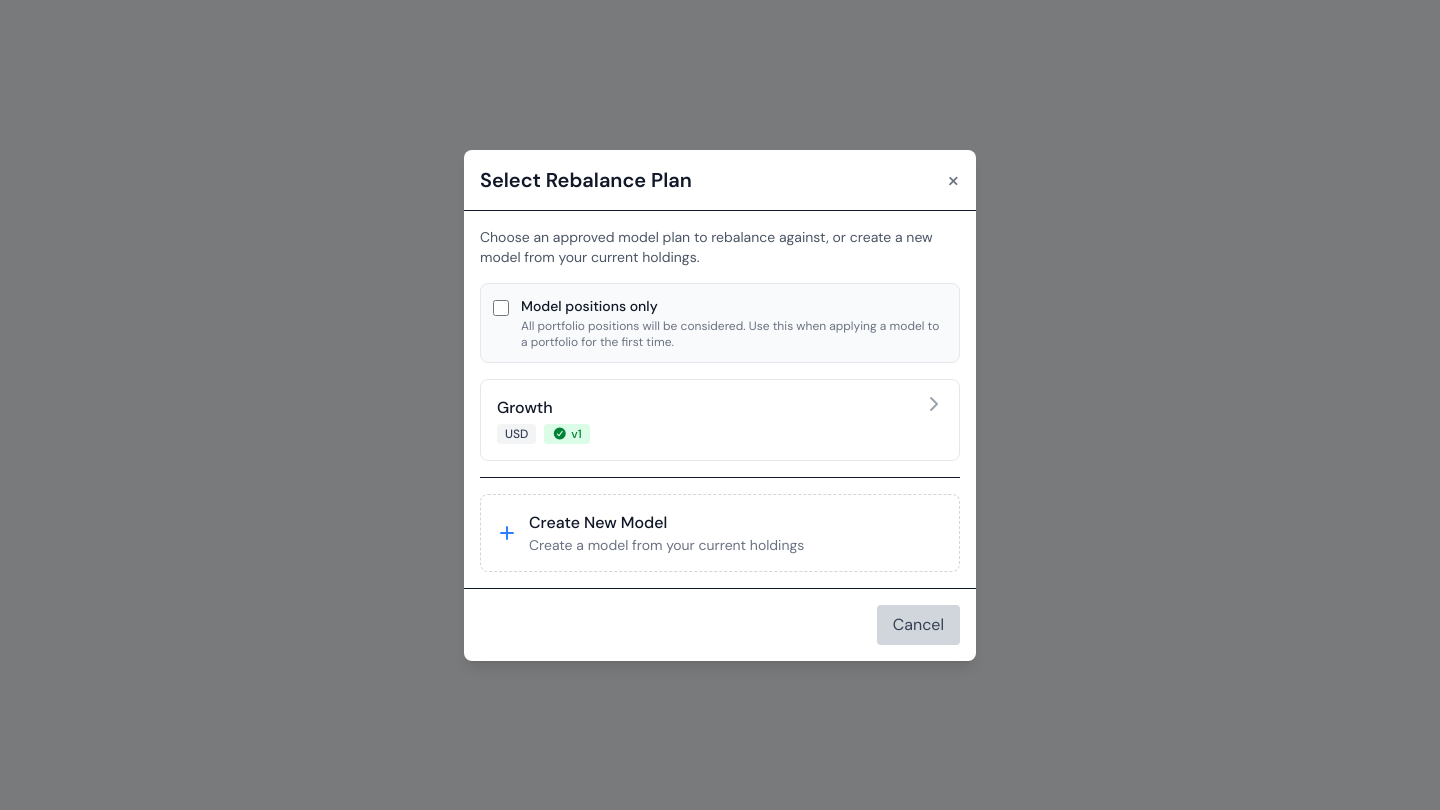
Scenario: SelectPlanDialog — fetch failure surfacing (#1157) › clears a previous error and proceeds normally when the retry succeeds
Click the text "Growth" at (525, 407), box [497,396,553,418]
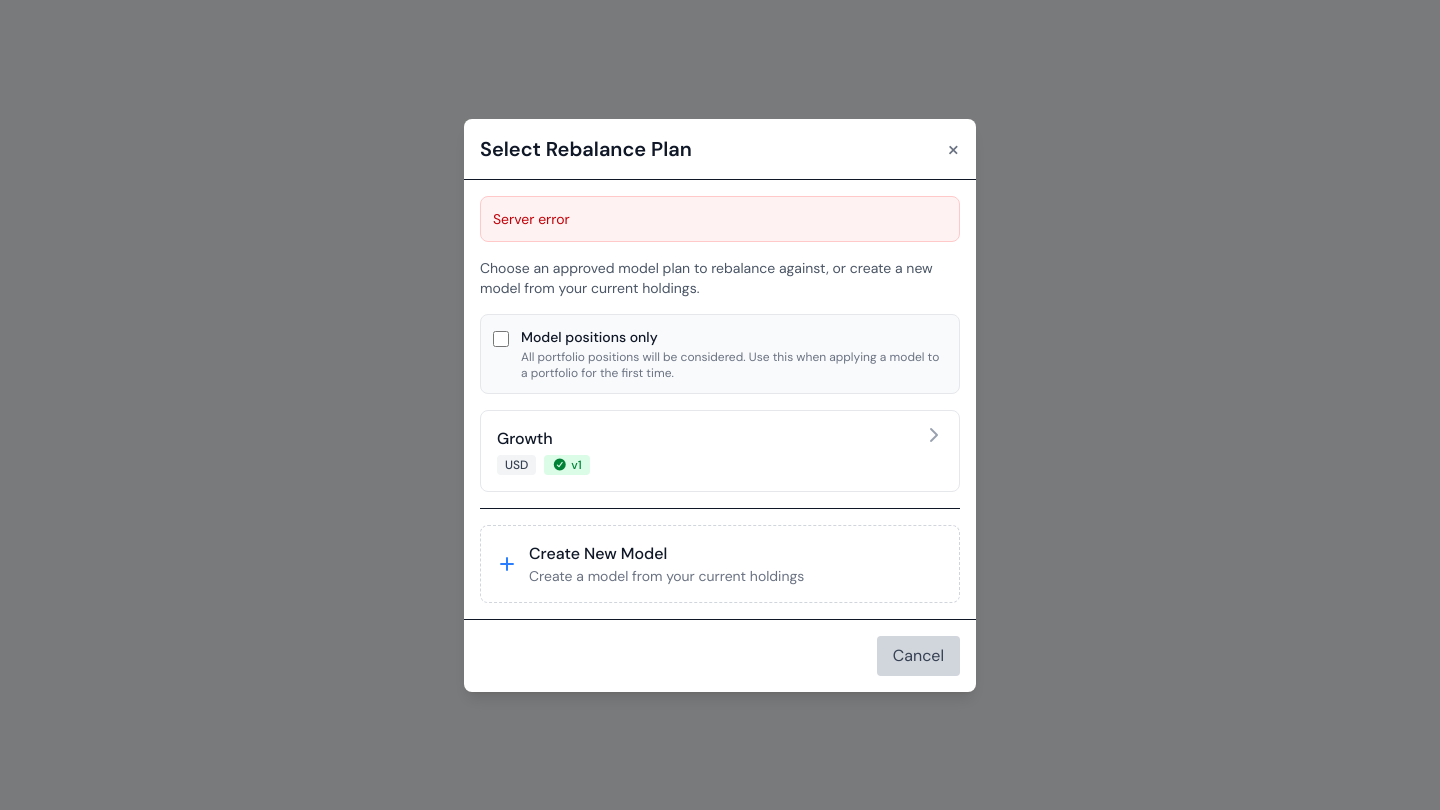
Now the text "Server error" is shown, box [480,196,960,242]
Click the text "Growth" at (525, 438), box [497,428,553,448]
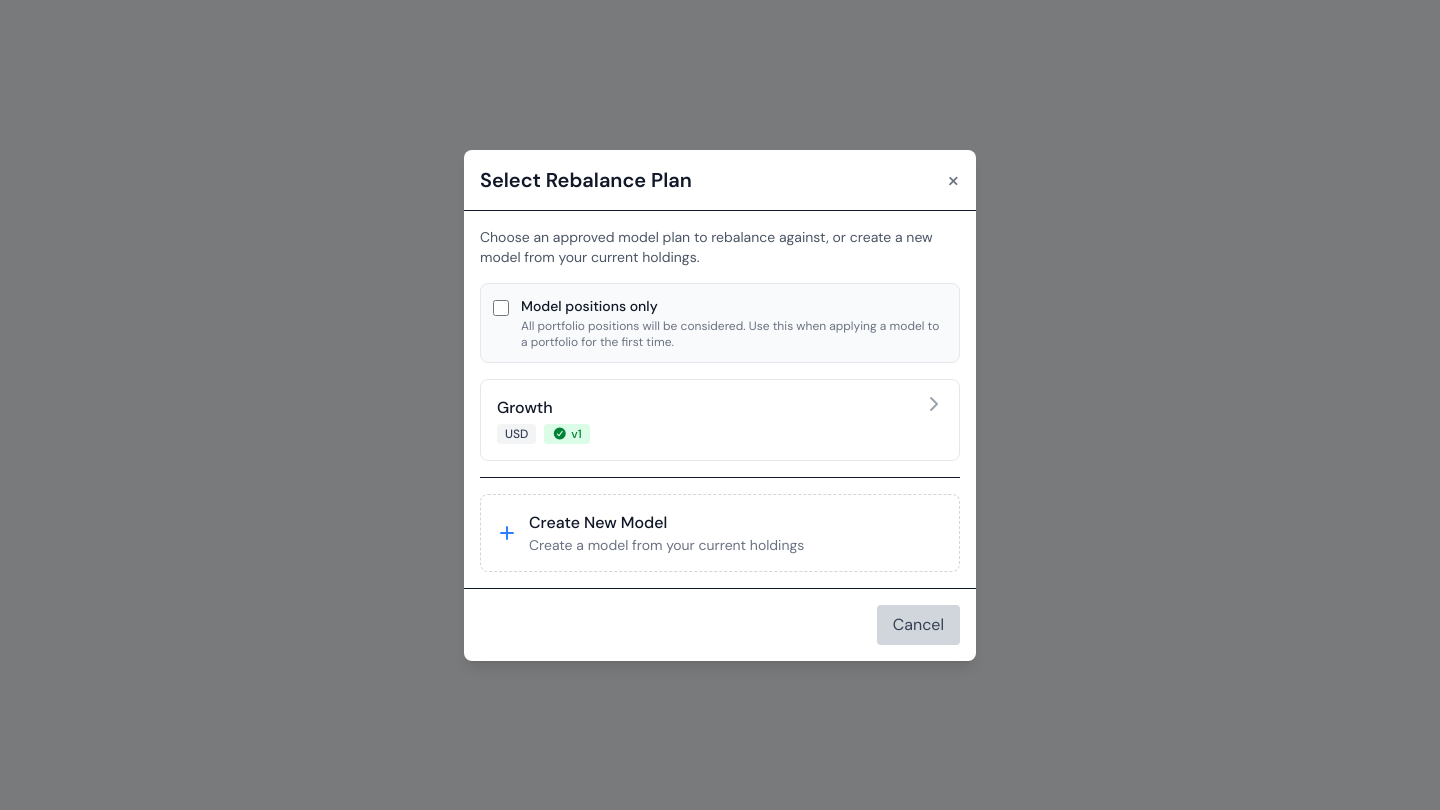
Now the text "Server error" is gone
